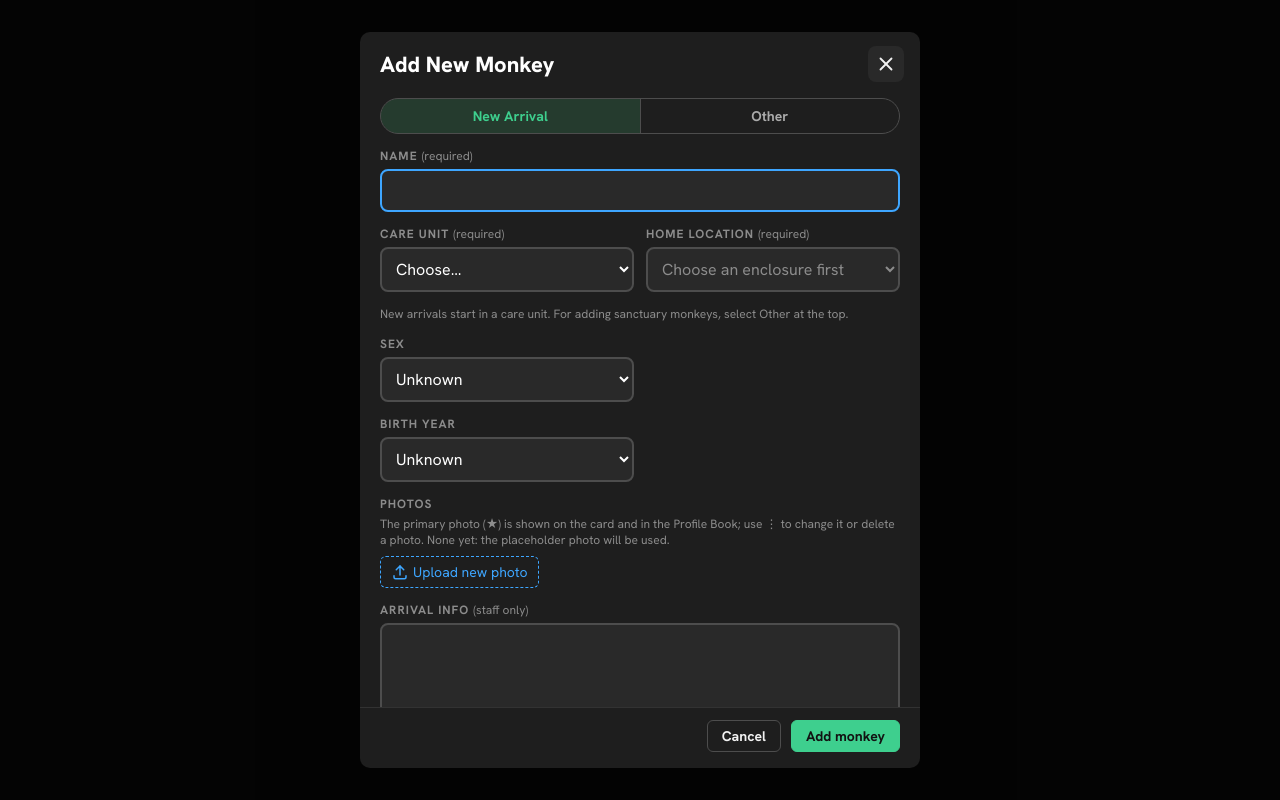
Test: Other › any enclosure and location; everything else as is (chip and bio too)
Click the button "Other" at (769, 116), box [640,99,899,133]
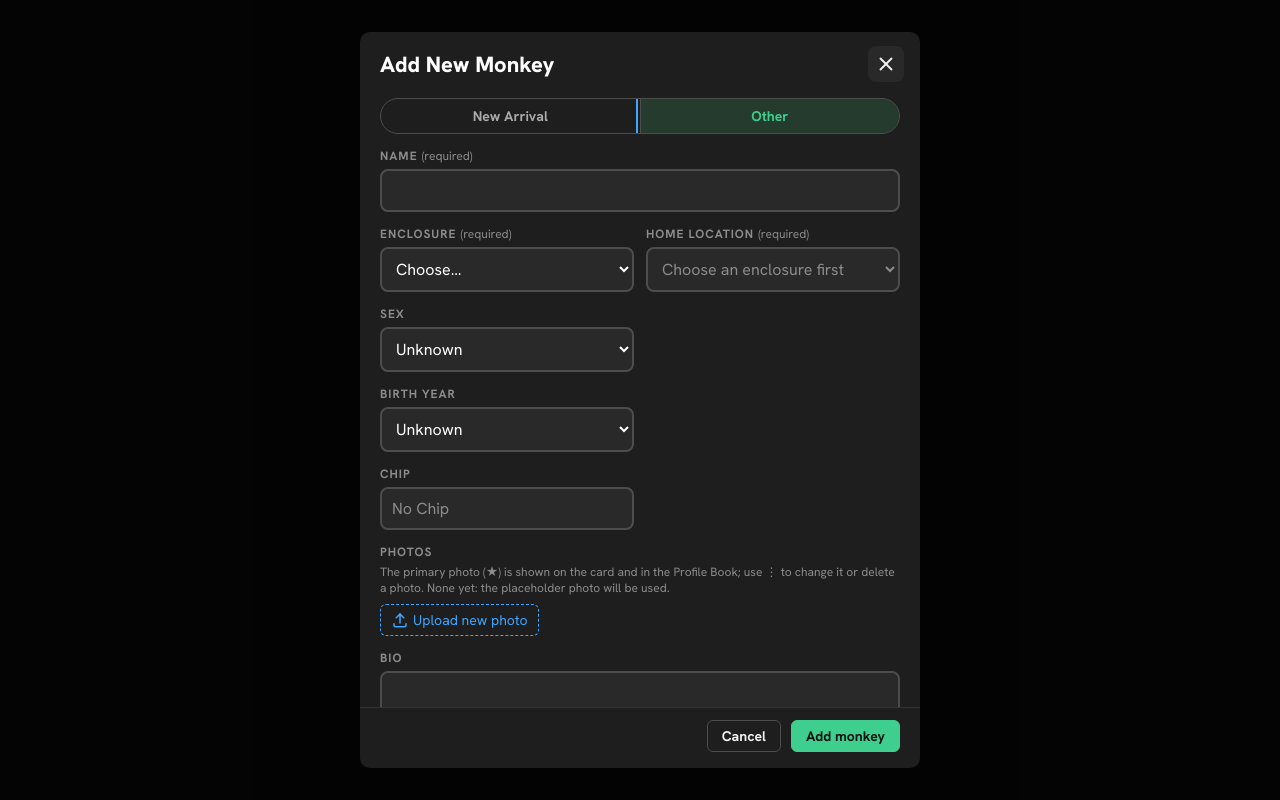
Expected: the dropdown labelled "Enclosure" is enabled, [380,247,634,292]
Expected: the field labelled "Chip" is shown, [380,487,634,530]
Expected: the field labelled "Arrival Info" is gone
